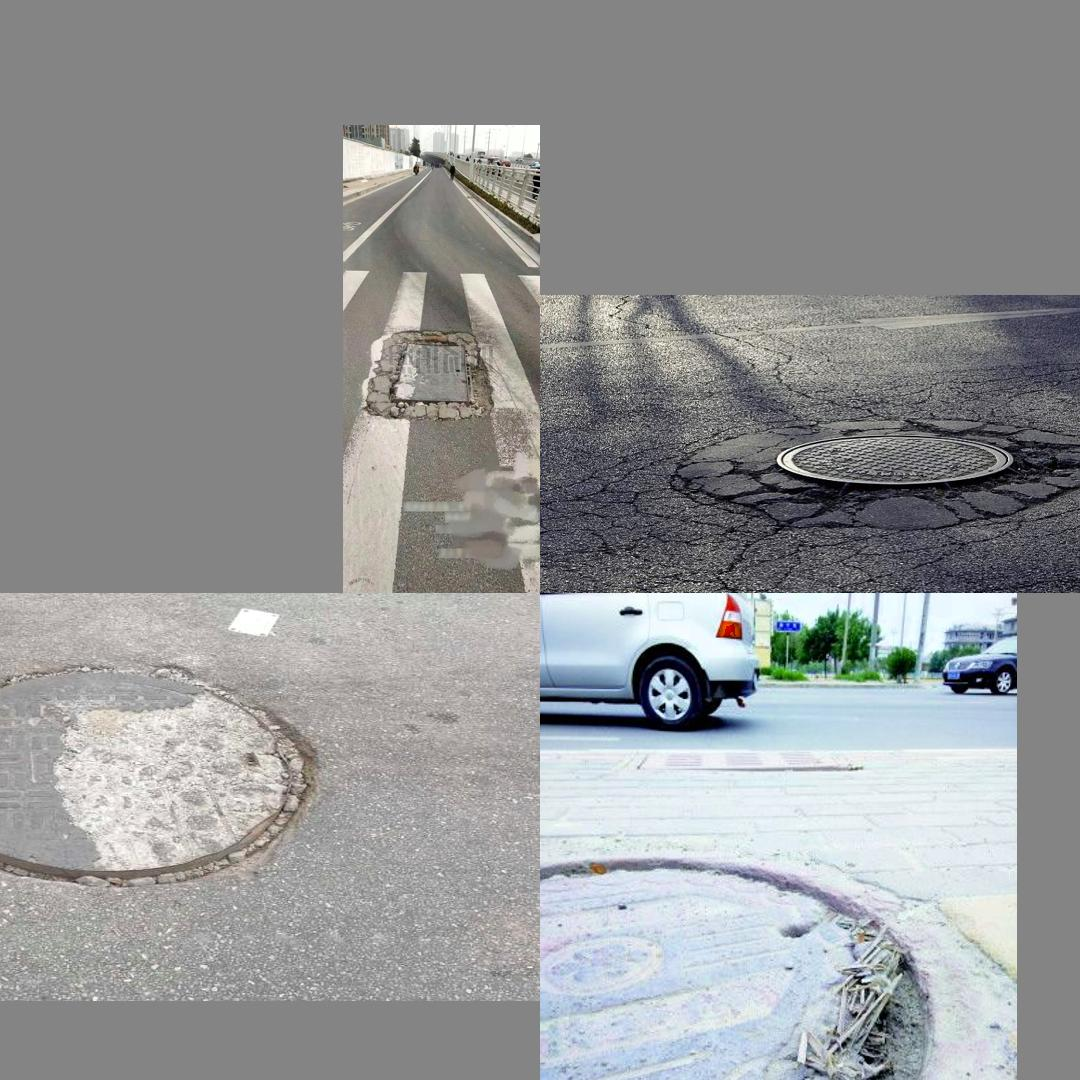circle: (548, 836, 989, 1080), (0, 651, 337, 892), (666, 405, 1080, 543), (263, 454, 463, 593)
